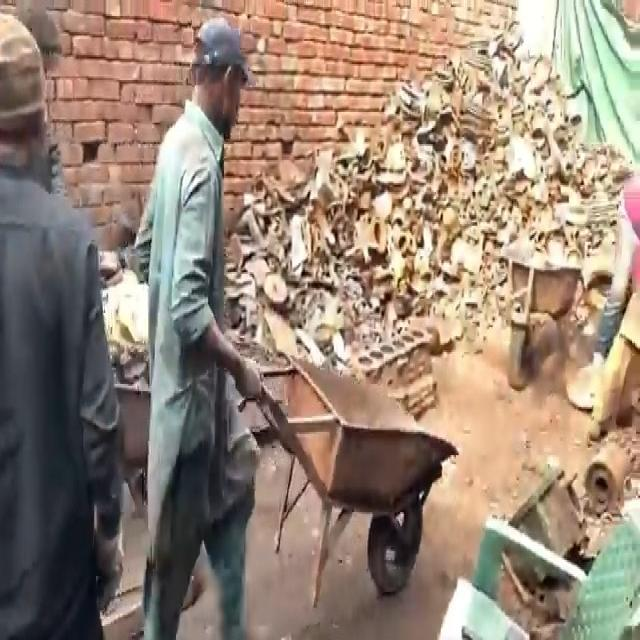dress: (0, 154, 124, 634), (144, 101, 258, 618)
